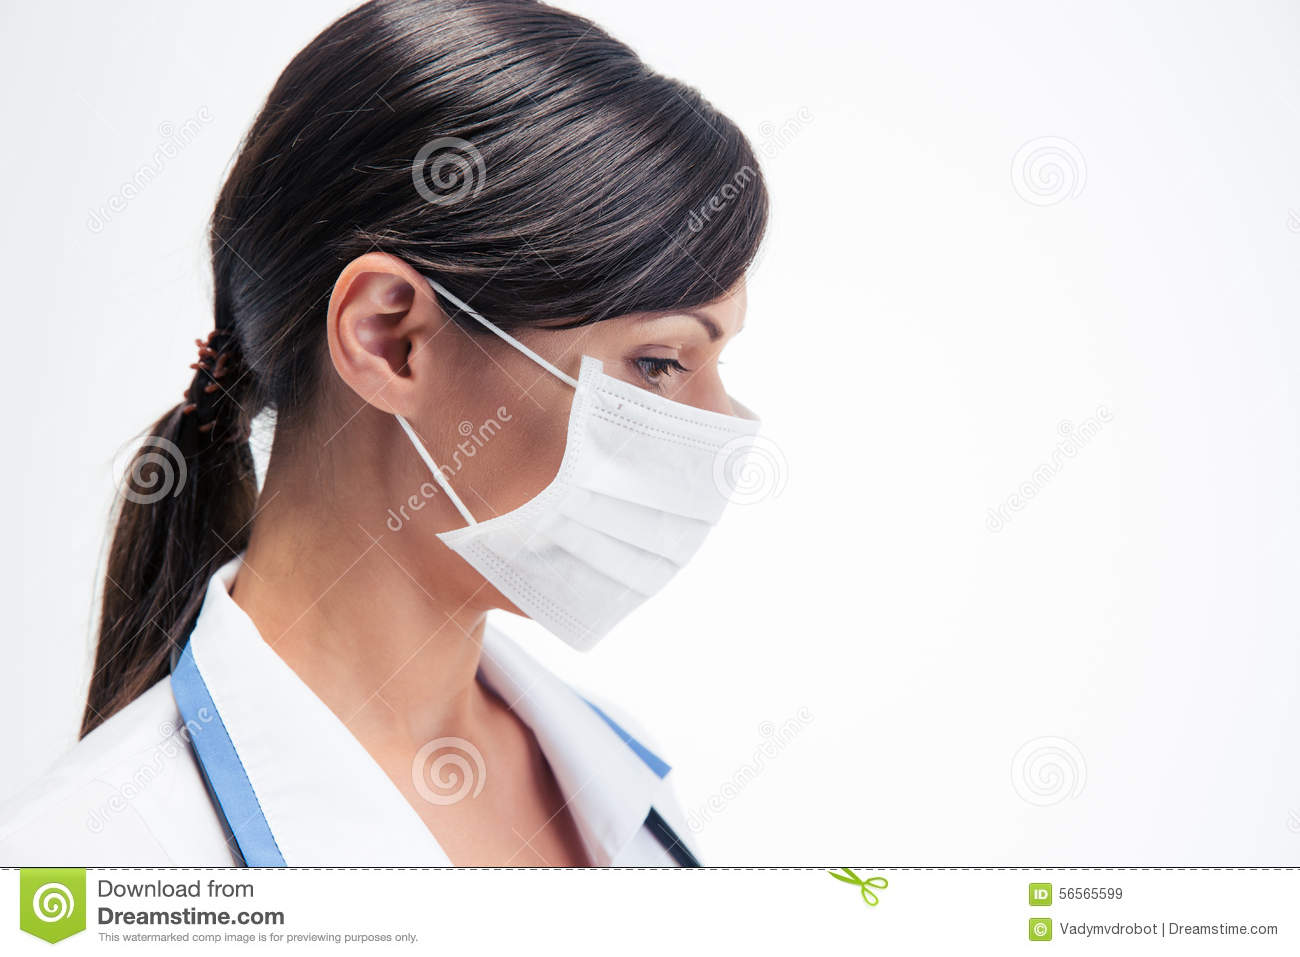mask: (501, 377, 747, 646)
